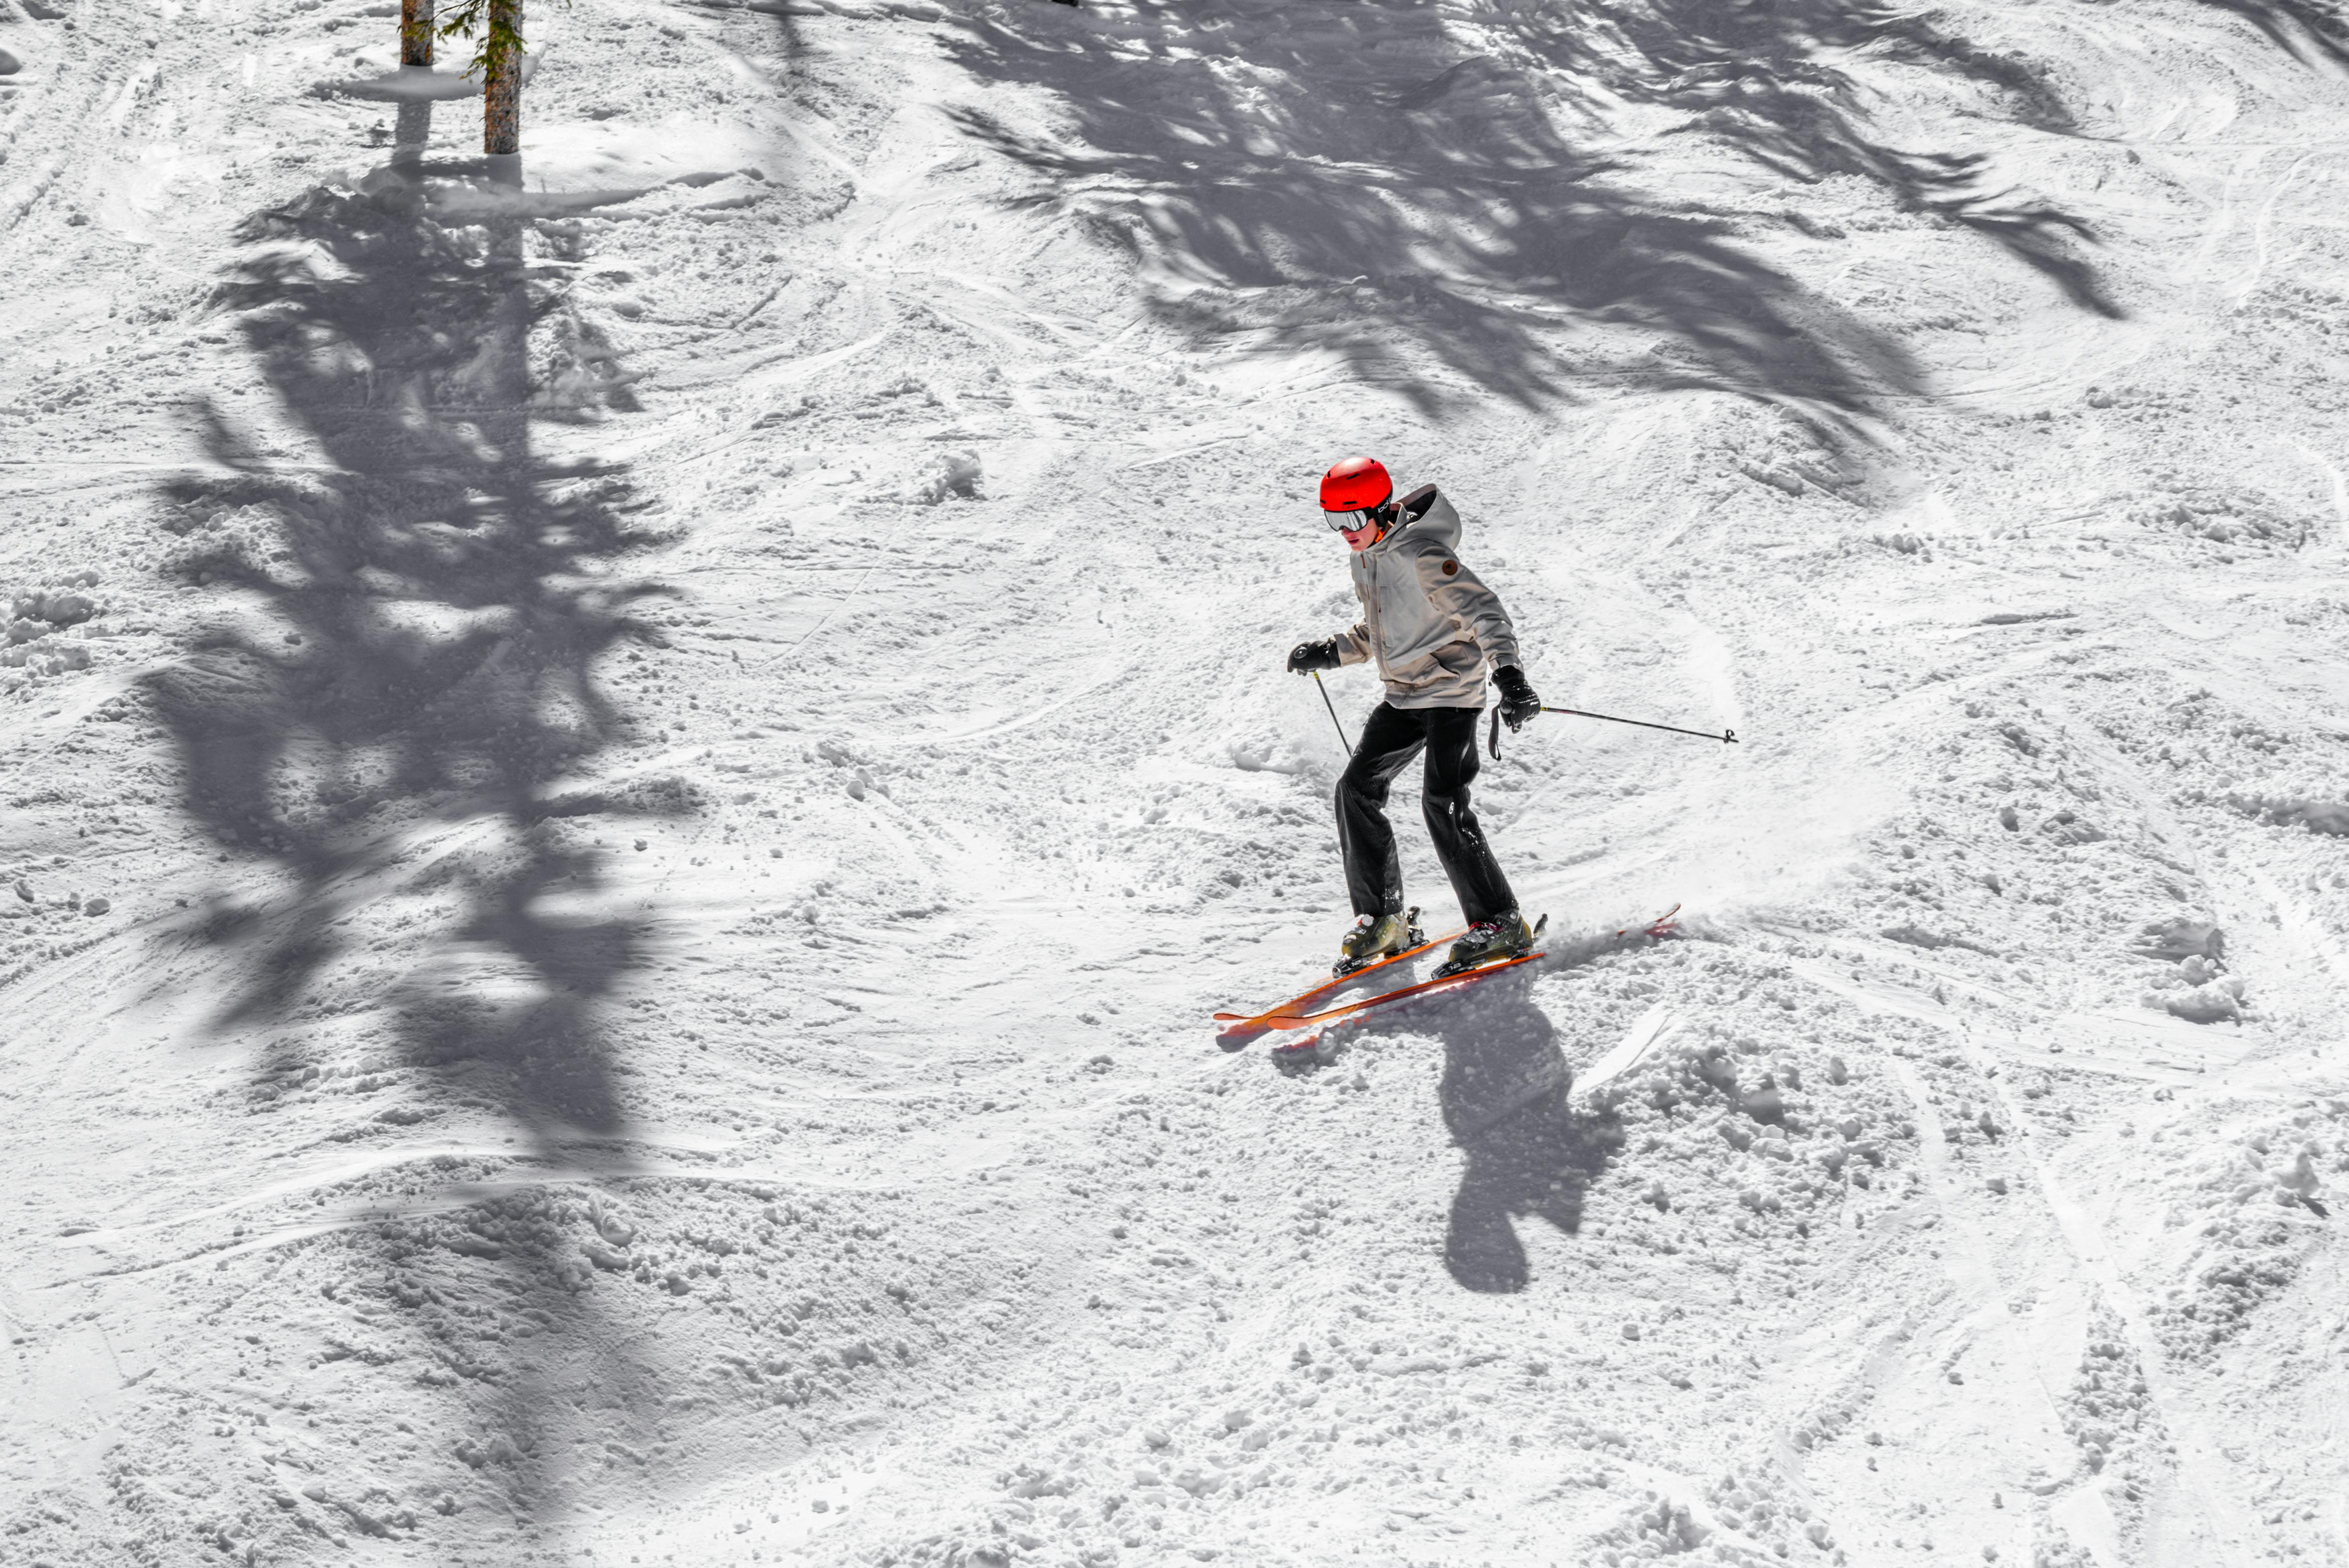skier: (1203, 451, 1752, 1036)
